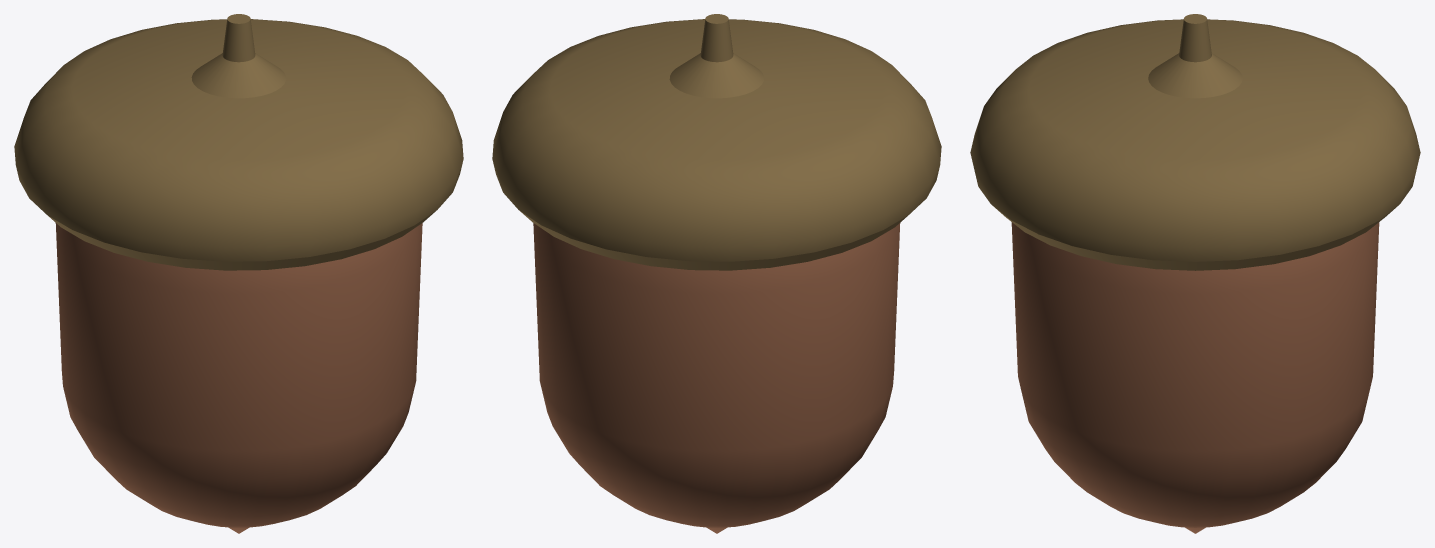
File: djelud.fbx
The picture shows the model from 3 angles, left to right: view 1: azimuth 30°, elevation 25°; view 2: azimuth 150°, elevation 25°; view 3: azimuth 270°, elevation 25°; orthographic projection.
Visible parts, largest first — view 1: Sphere; view 2: Sphere; view 3: Sphere.
Part boxes in pixels (left/top/right/bottom): Sphere: left=14, top=14, right=463, bottom=533; Sphere: left=492, top=14, right=941, bottom=533; Sphere: left=970, top=14, right=1420, bottom=533.
Size of the model in its own units: 245 by 309 by 245.
